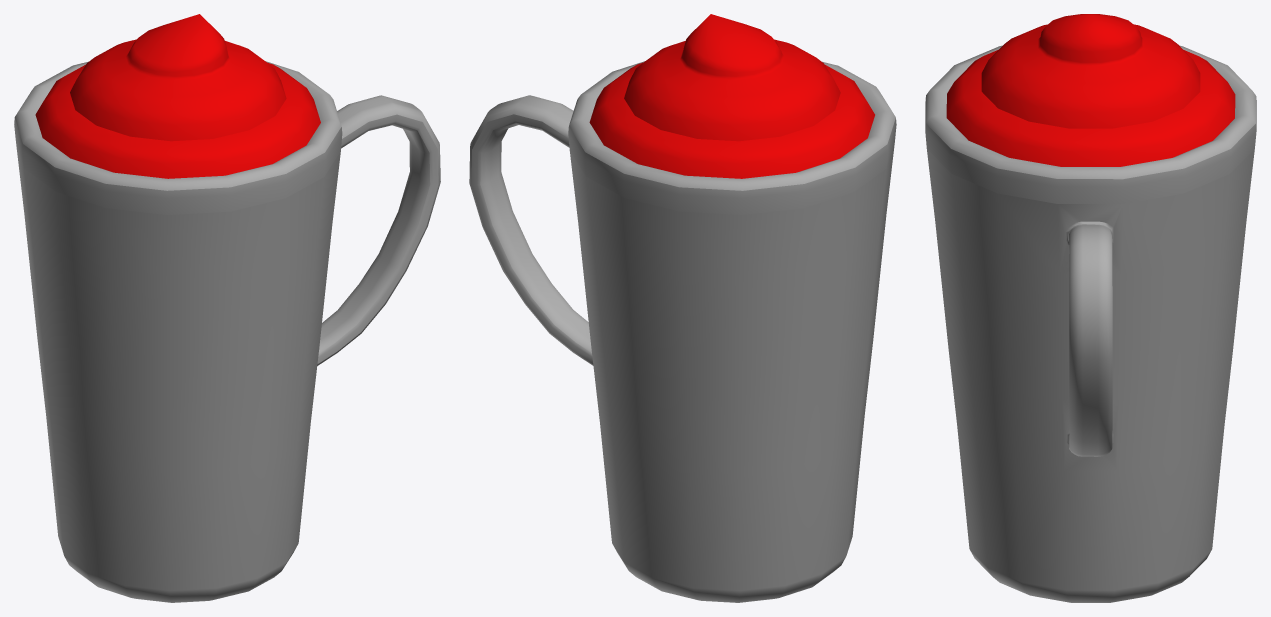
File: S1_L_CaramelMacchiato.fbx
The picture shows the model from 3 angles, left to right: view 1: azimuth 30°, elevation 25°; view 2: azimuth 150°, elevation 25°; view 3: azimuth 270°, elevation 25°; orthographic projection. The views are drawn at different scales.
Parts seen in each view (by area): view 1: S1_CaramelMacchiato; view 2: S1_CaramelMacchiato; view 3: S1_CaramelMacchiato.
Boxes of the visible parts, left/top/right/bottom form: S1_CaramelMacchiato: left=14, top=14, right=440, bottom=602; S1_CaramelMacchiato: left=469, top=14, right=896, bottom=602; S1_CaramelMacchiato: left=925, top=14, right=1256, bottom=602.
Bounding box in the file's own units: 958 × 1257 × 675.
